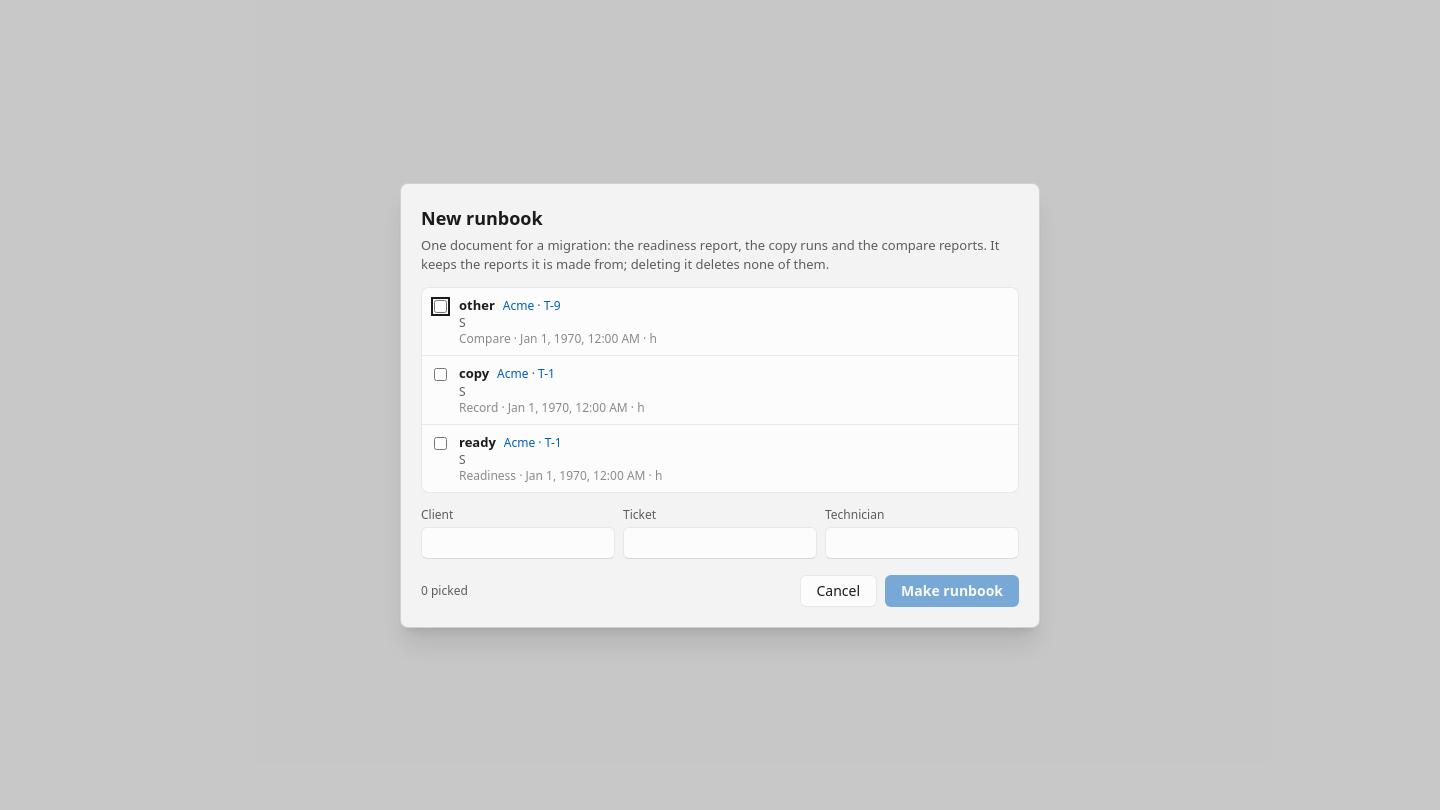
RunbookDialog › shows the error from Rust and keeps the dialog open
Click the checkbox labelled "other Acme · T-9 S Compare · Jan 1, 1970, 12:00 AM · h": [440, 306] box [434,300,447,312]
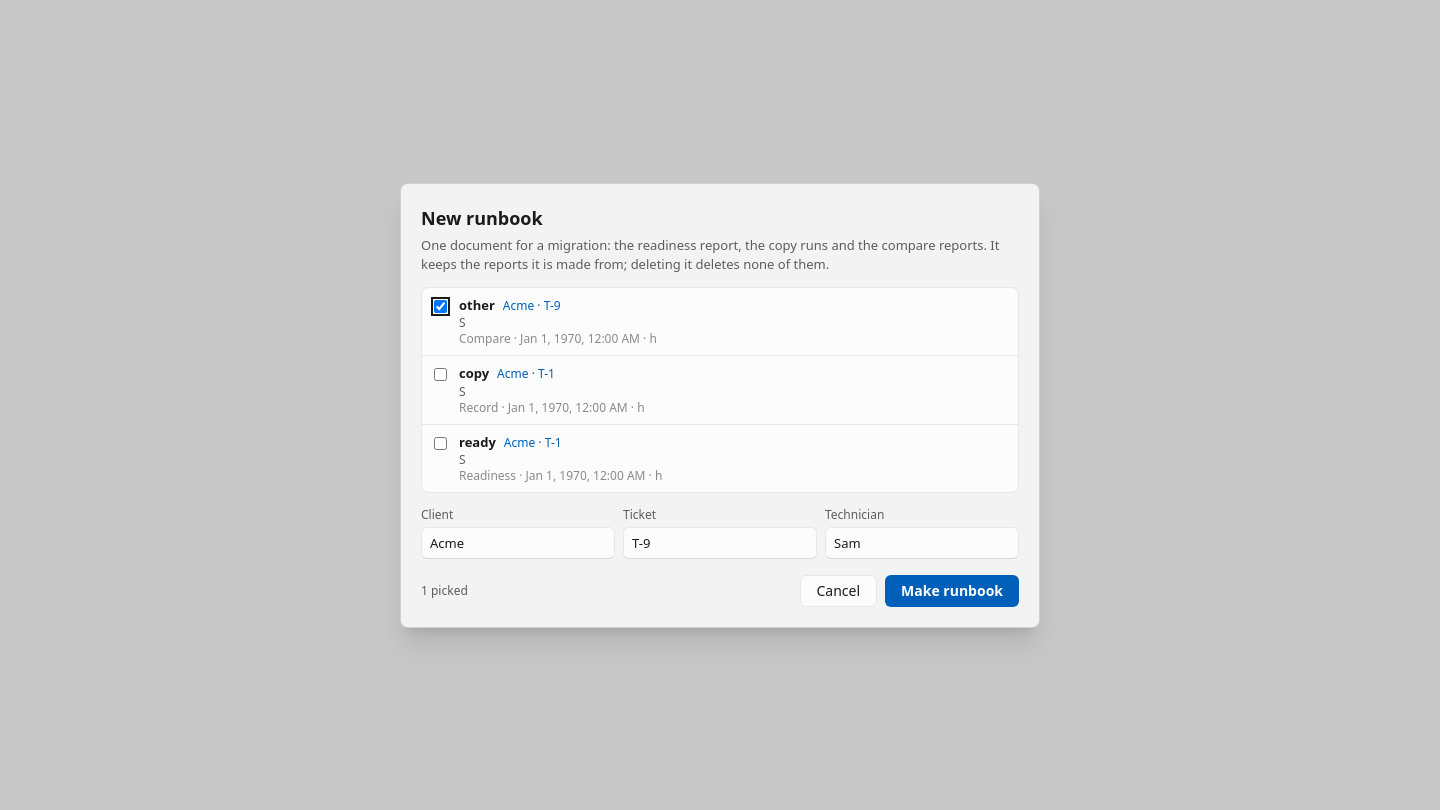
Click the button "Make runbook": [952, 590] box [885,574,1019,606]
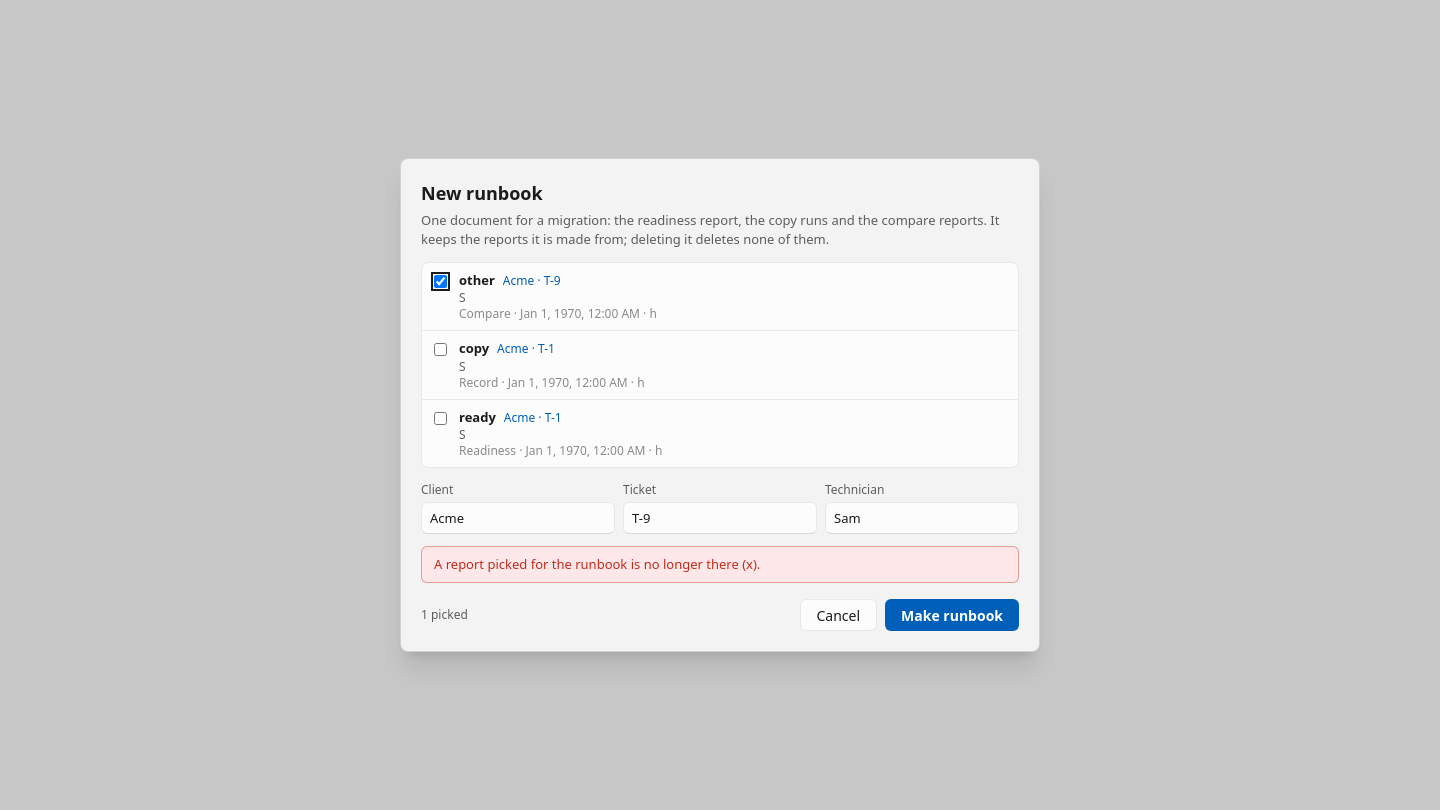
Check: the message "A report picked for the runbook is no longer there (x)." is shown, box [421,546,1019,583]
